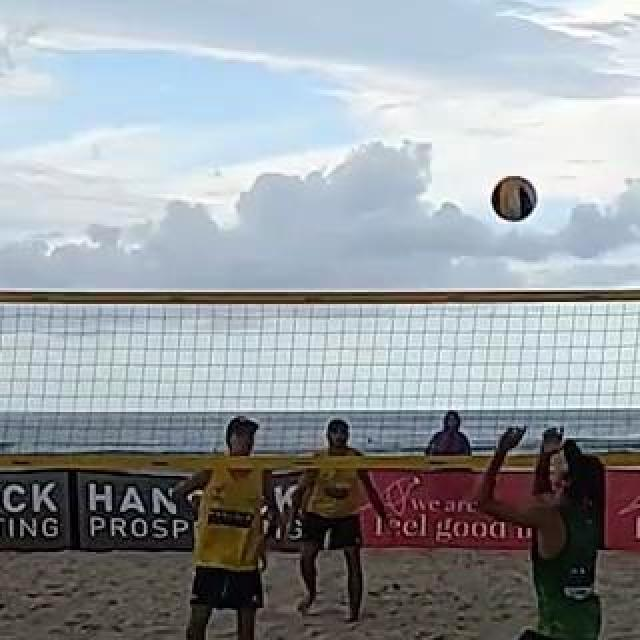volleyball: (490, 175, 536, 221)
